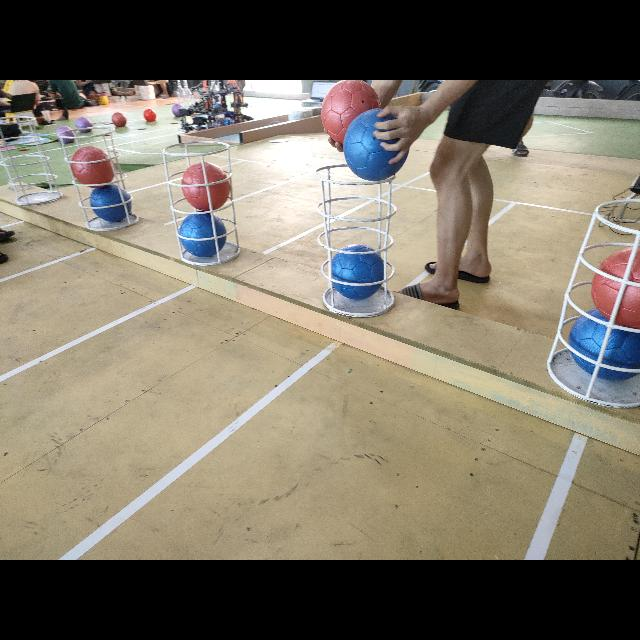B: (570, 318, 640, 380), (330, 245, 384, 299), (179, 212, 227, 258), (89, 186, 131, 222)
R: (590, 246, 640, 320), (182, 161, 230, 209), (72, 146, 115, 188)
